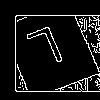L: (24, 25, 70, 78)
